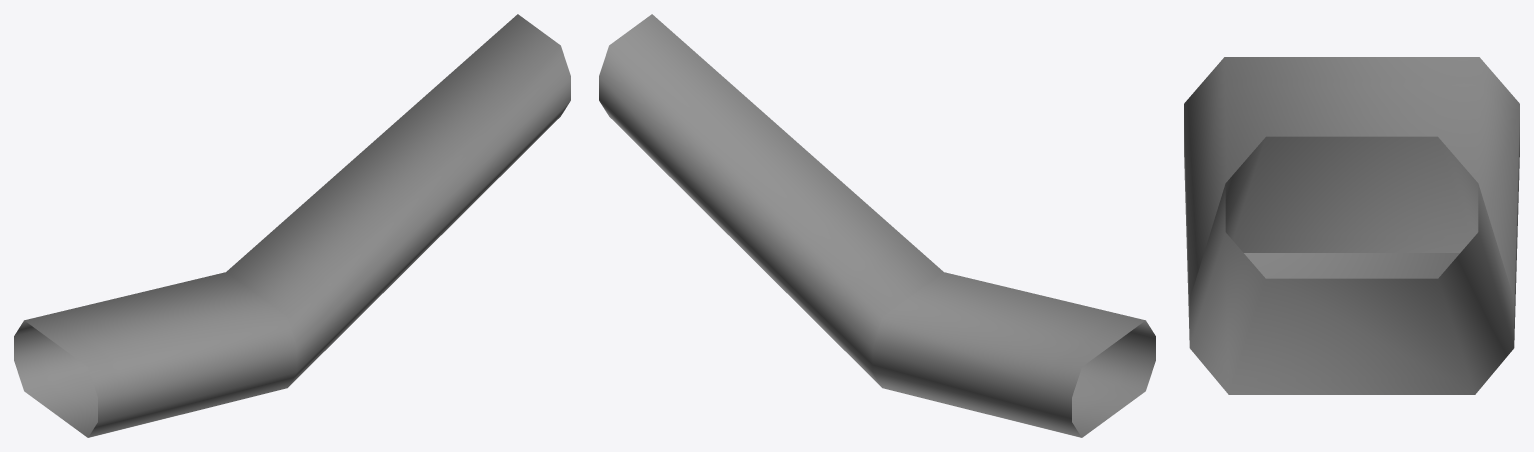
Rendered from bonus2 1.fbx.
The picture shows the model from 3 angles, left to right: view 1: azimuth 30°, elevation 25°; view 2: azimuth 150°, elevation 25°; view 3: azimuth 270°, elevation 25°; orthographic projection. The views are drawn at different scales.
Visible parts, largest first — view 1: bonus2; view 2: bonus2; view 3: bonus2.
Boxes of the visible parts, x1,y1,x2,y2 form: bonus2: (14, 14, 570, 437); bonus2: (599, 14, 1155, 437); bonus2: (1184, 57, 1519, 394).
Bounding box in the file's own units: 70.18 × 37.04 × 21.12.
